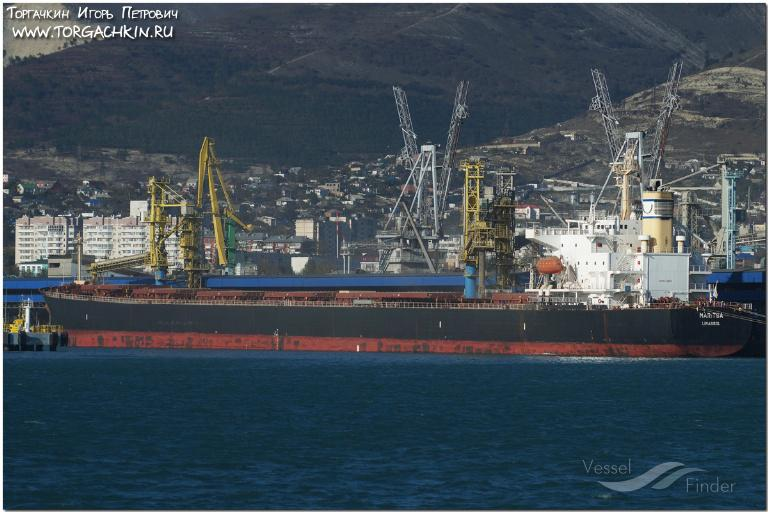OCR: (690, 310, 725, 332)
